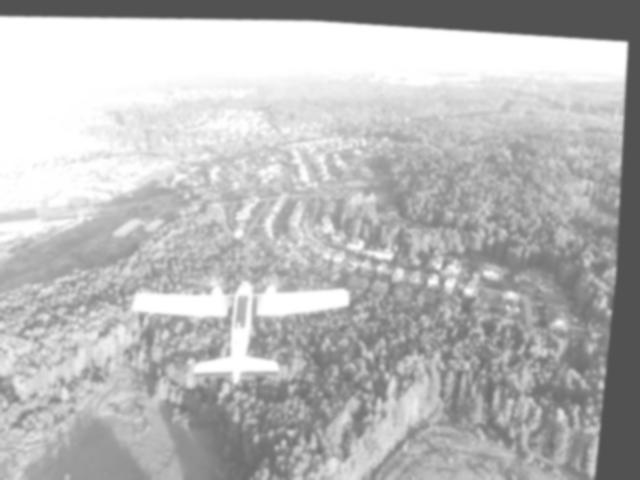hedef: (129, 257, 369, 398)
